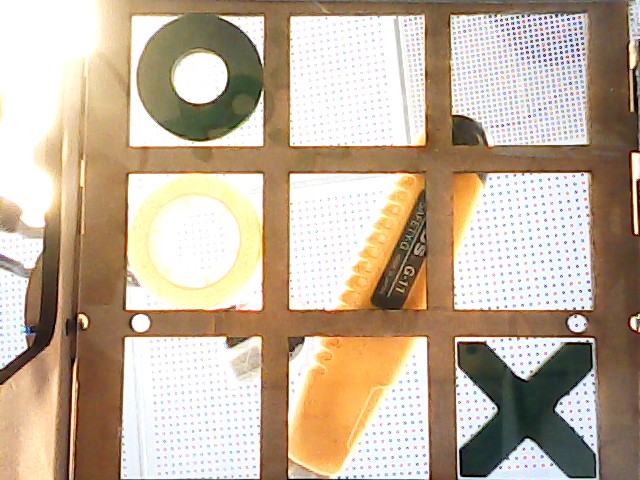O: (134, 14, 260, 138)
X: (458, 340, 599, 480)
